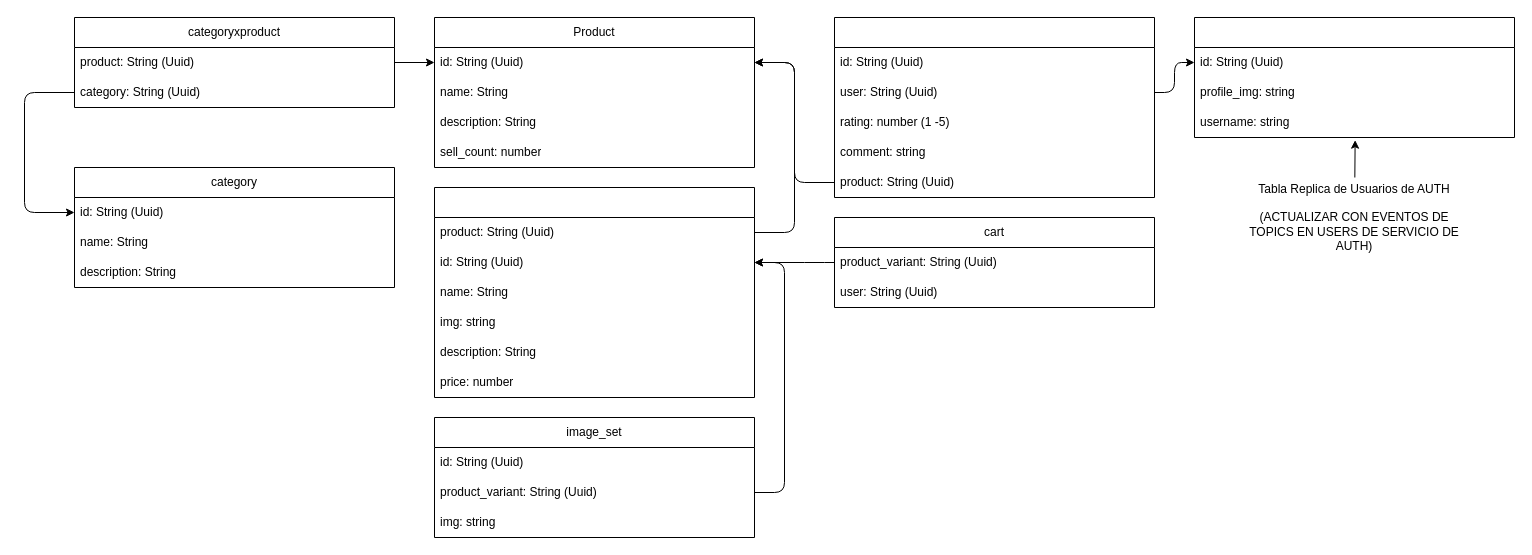
Some shapes in this 1532 by 555 pixel diagram are drawn without their labels. The box of each missing label's shape, as (x1, y1, x2, y2) in pixels:
product_variants: (434, 186, 754, 398)
Reviews: (834, 16, 1154, 198)
user_read: (1194, 16, 1514, 138)
